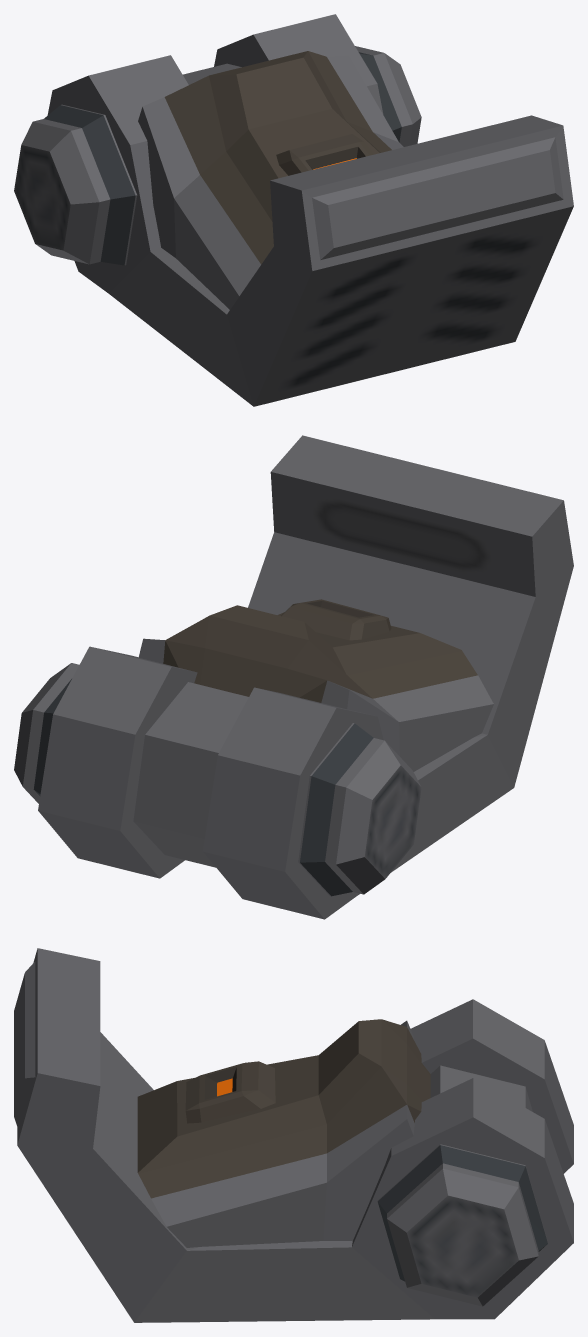
The model's file is SM_Mech_Foot_01_Armor_Toes_01.fbx.
3 renders of one model, top to bottom at view 1: azimuth 30°, elevation 25°; view 2: azimuth 150°, elevation 25°; view 3: azimuth 270°, elevation 25°, orthographic.
Visible parts, largest first — view 1: SM_Mech_Foot_01_Armor_Toes_01; view 2: SM_Mech_Foot_01_Armor_Toes_01; view 3: SM_Mech_Foot_01_Armor_Toes_01.
Part boxes in pixels (x1,y1,x2,y2): SM_Mech_Foot_01_Armor_Toes_01: (14,14,573,406); SM_Mech_Foot_01_Armor_Toes_01: (14,435,573,919); SM_Mech_Foot_01_Armor_Toes_01: (14,948,573,1322).
Bounding box in the file's own units: 57.09 × 39.36 × 79.75.
